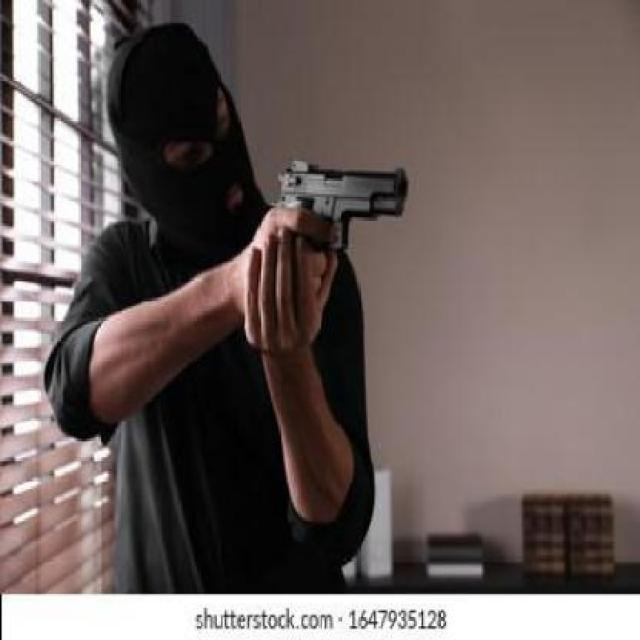Handgun: (248, 150, 420, 324)
